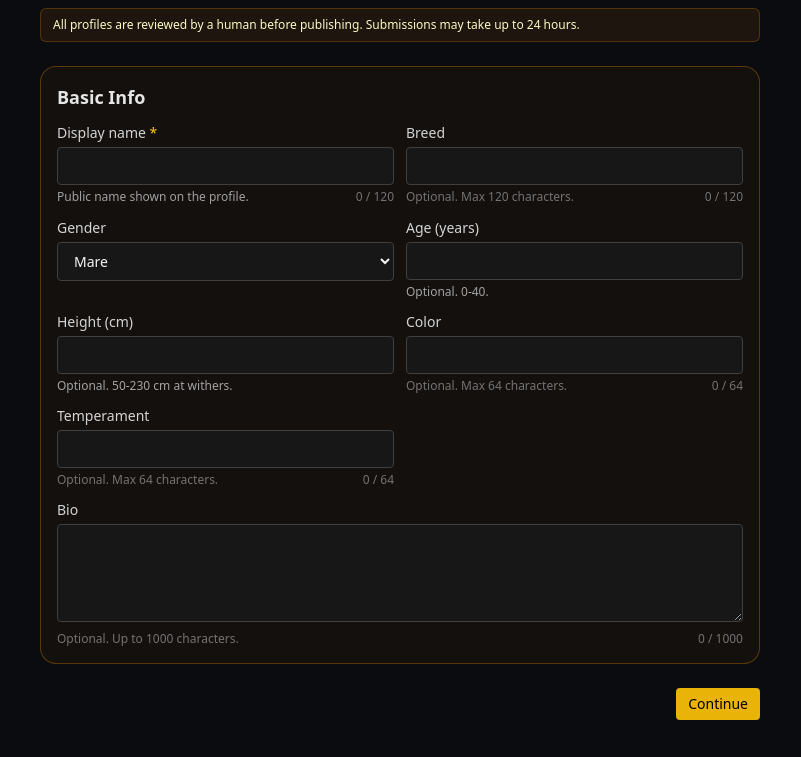
it: NewFormClient (React version) › requires display name before proceeding and updates step indicator
(page scrolled)
Click Continue without a name
Click the button with id "tfh-next-step-1" at x=718, y=704, box [676,688,760,720]
(page scrolled)
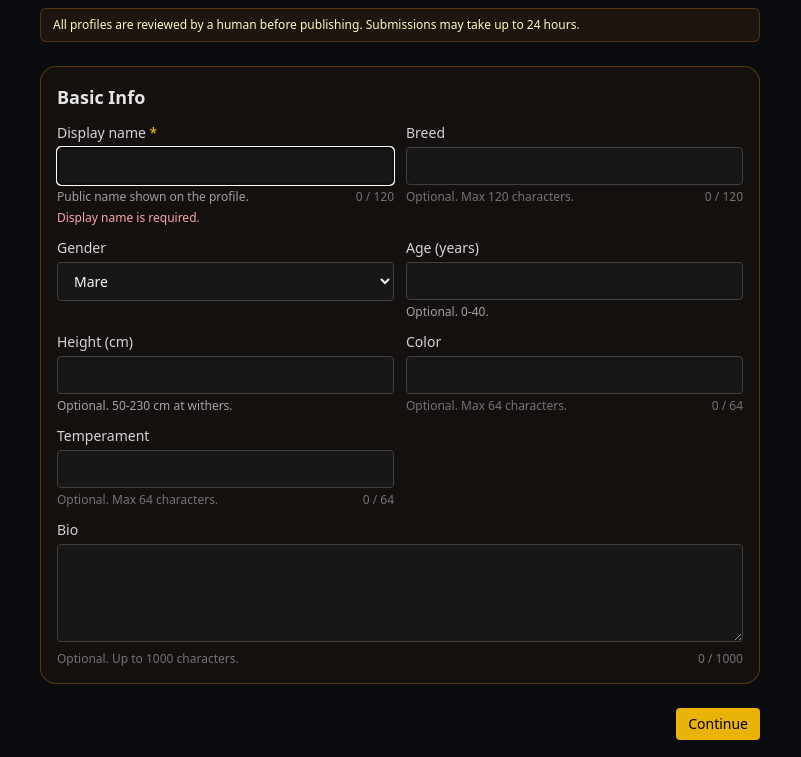
Fill a display name and continue
Type "Shadowfax" into the field named "display_name" at x=226, y=166, box [57,147,394,185]
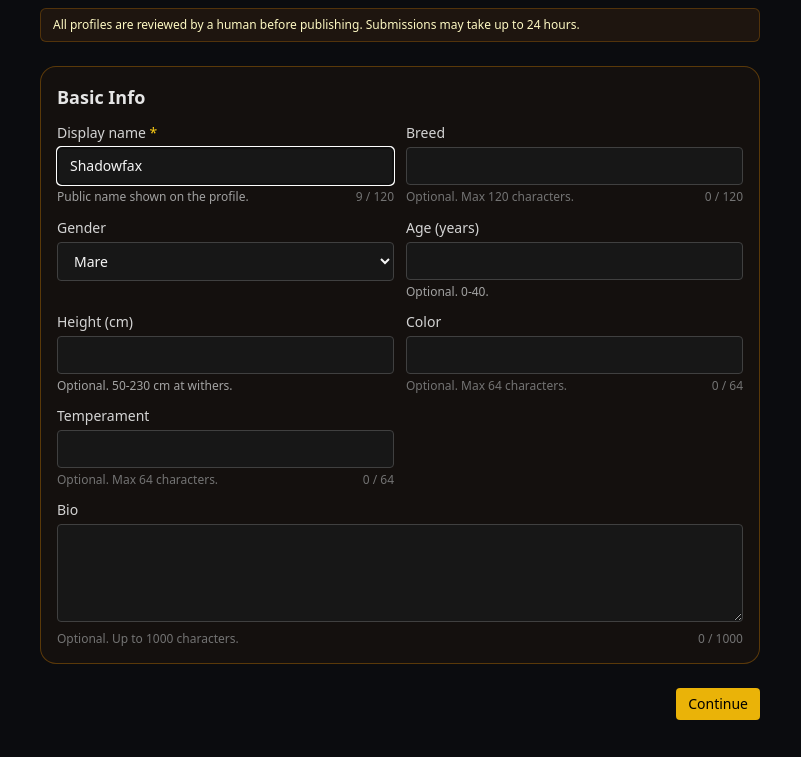
Click the button with id "tfh-next-step-1" at x=718, y=704, box [676,688,760,720]
(page scrolled)
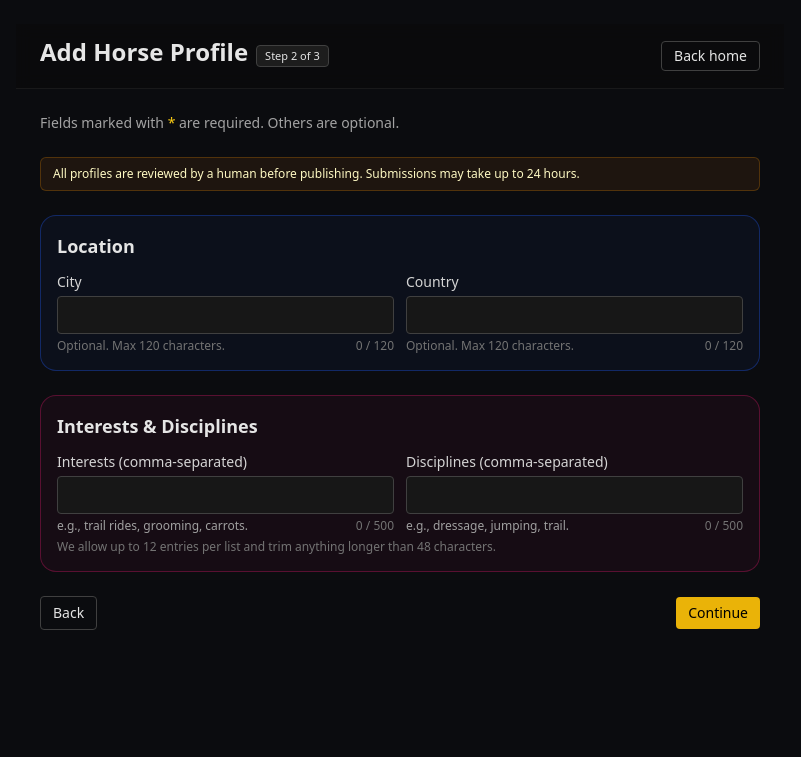
Expected: the text with id "tfh-step-indicator" reads "Step 2 of 3", [265,48,320,63]
